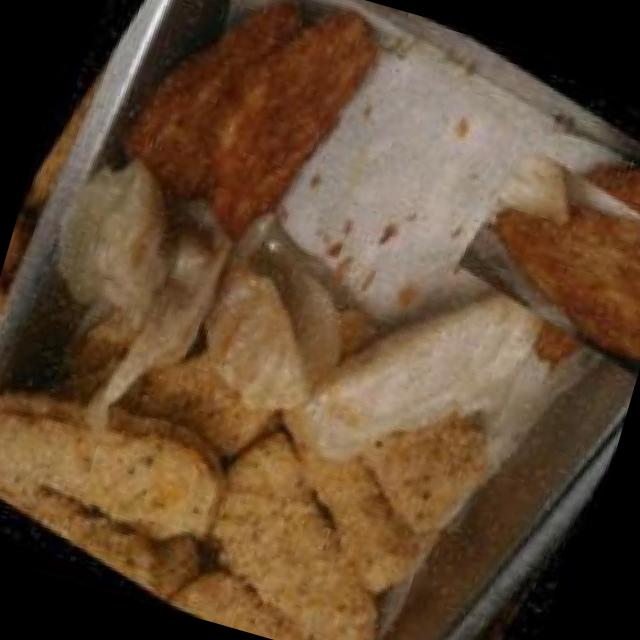fried_dumplings: (0, 104, 563, 535)
triangle_hash_brown: (85, 0, 396, 273), (443, 116, 640, 396)
